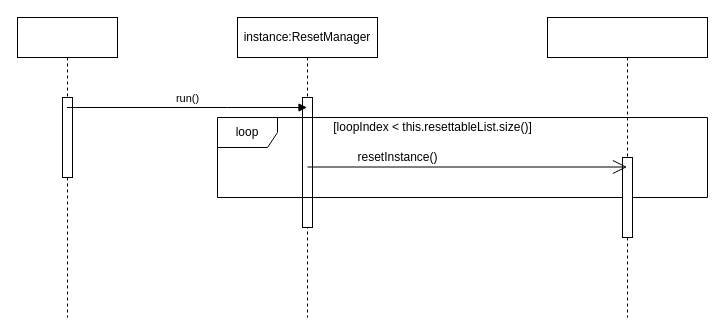
Image size: 725x335. Some labels were removed from this diagram. The centre of each missing label's shape, as x and y in pixels:
mario:Player: the point at 67,167
resettableObject:Resettable: the point at 627,167
